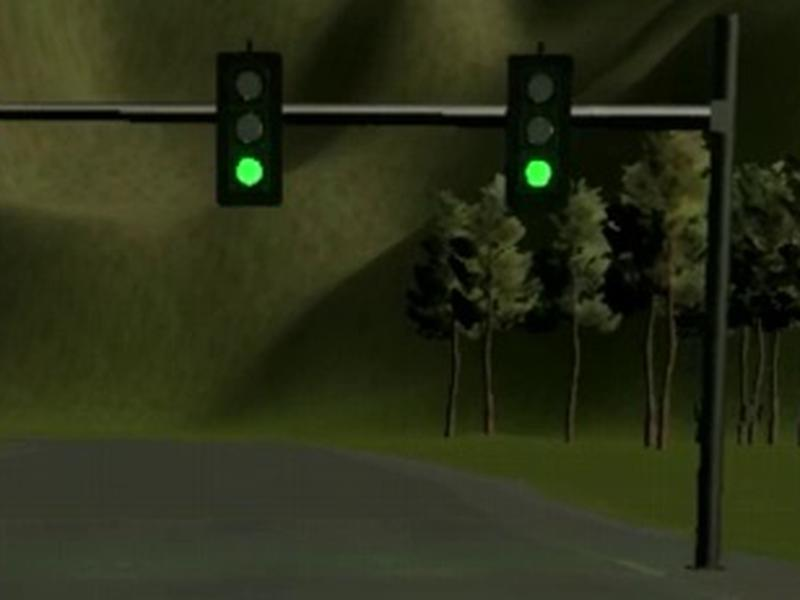Green: (215, 51, 283, 206), (505, 53, 571, 210)
